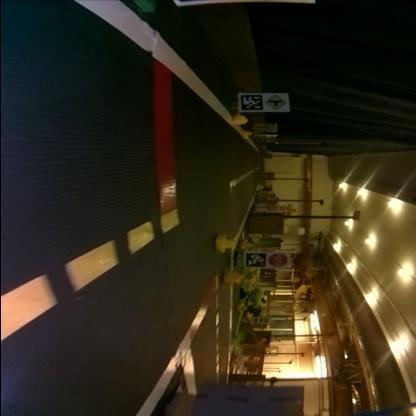Duckie: (215, 236, 236, 253), (223, 271, 242, 286), (232, 115, 248, 125), (242, 131, 251, 139)
Intersection sign: (266, 96, 287, 110)
QR code: (240, 95, 264, 111), (246, 254, 264, 268)
Stop sign: (270, 254, 288, 268)
